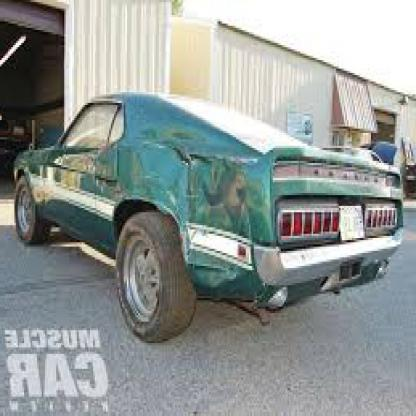dent: (190, 160, 248, 222)
